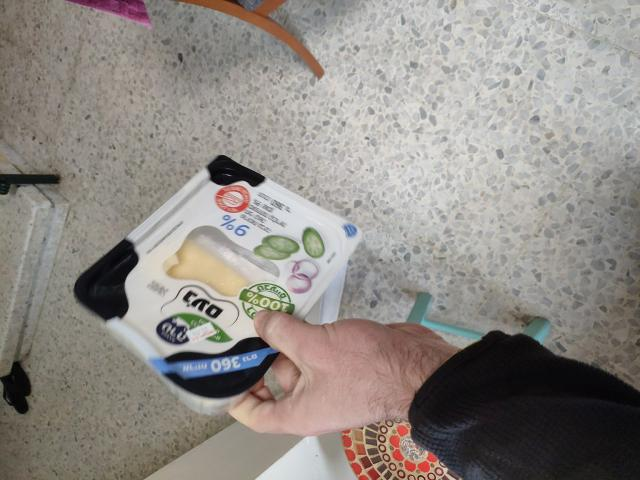cheese: (111, 139, 318, 469)
